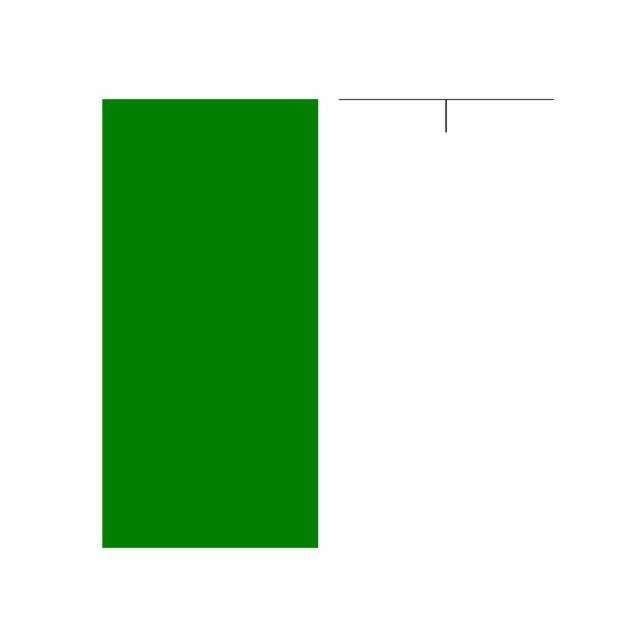Hanging Man: (327, 98, 565, 134)
